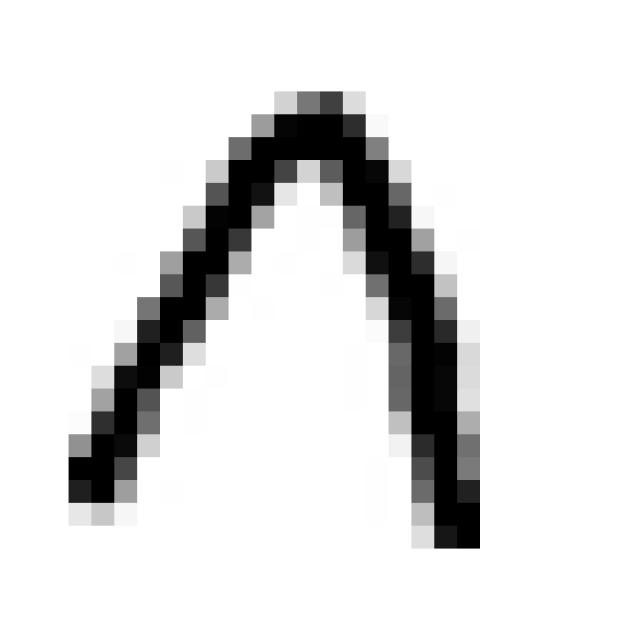8 -eight-: (46, 76, 504, 574)
